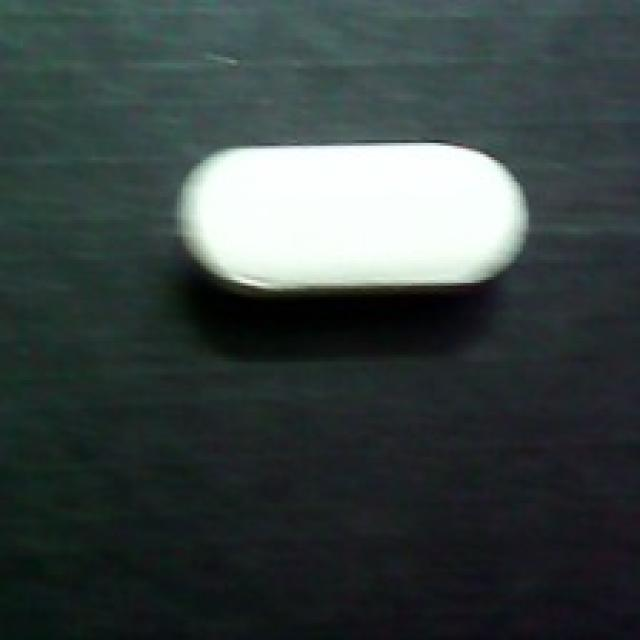no-defect: (174, 143, 534, 306)
